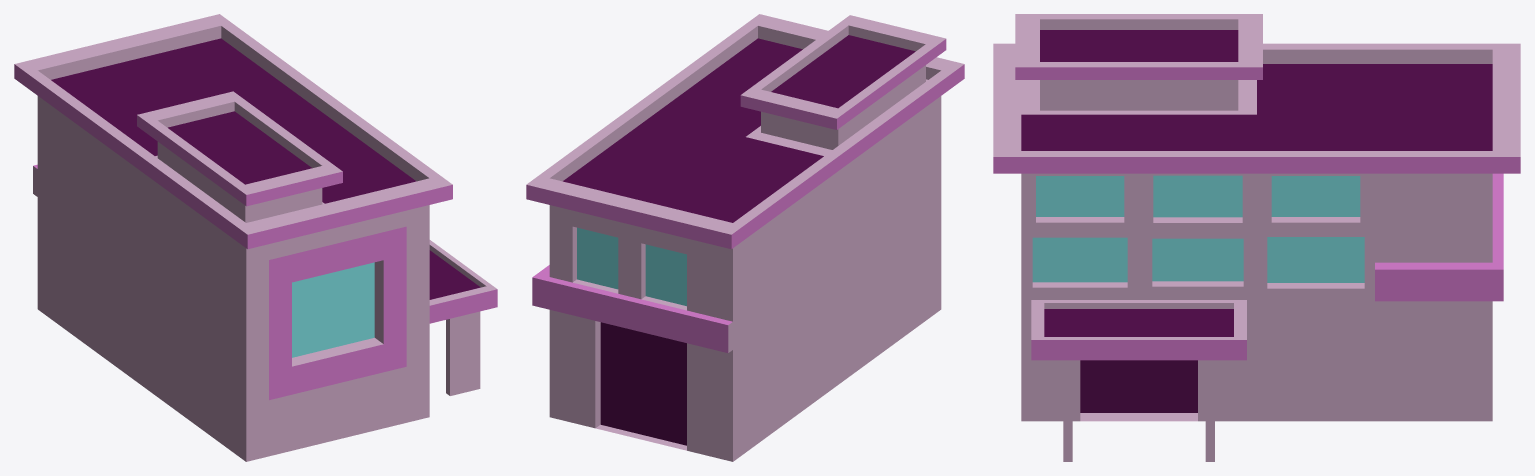
File: house3.fbx
3 views of the same model, side by side, from view 1: azimuth 30°, elevation 25°; view 2: azimuth 150°, elevation 25°; view 3: azimuth 270°, elevation 25° (orthographic). The views are drawn at different scales.
Visible parts, largest first — view 1: Cube; view 2: Cube; view 3: Cube.
Boxes of the visible parts, bbox=[...] form: Cube: bbox=[14, 14, 497, 461]; Cube: bbox=[526, 14, 964, 461]; Cube: bbox=[993, 14, 1520, 461].
Size of the model in its own units: 530 by 516 by 803.
